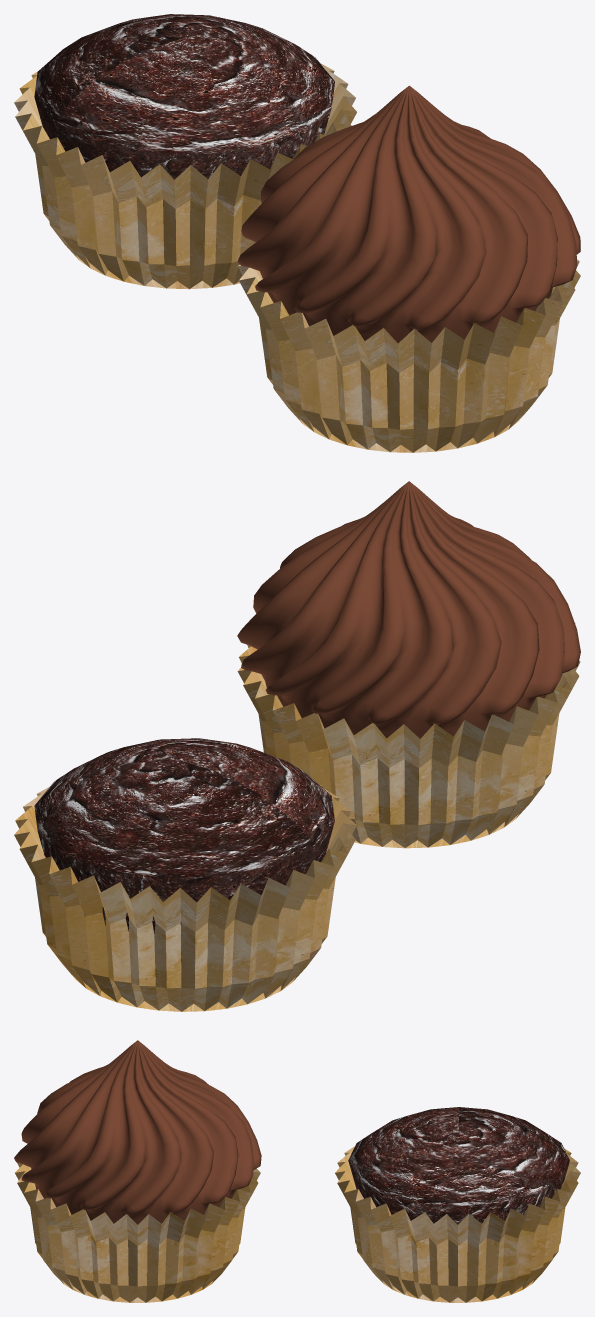
Rendered from cupcakes.gltf.
3 renders of one model, top to bottom at view 1: azimuth 30°, elevation 25°; view 2: azimuth 150°, elevation 25°; view 3: azimuth 270°, elevation 25°, orthographic. The views are drawn at different scales.
Parts seen in each view (by area): view 1: Cone, Sphere, Cylinder, Cylinder.001; view 2: Cone, Sphere, Cylinder.001, Cylinder; view 3: Cone, Sphere, Cylinder.001, Cylinder.
Boxes of the visible parts, <box> form: Cone: <box>238,85,580,343</box>; Sphere: <box>34,14,334,179</box>; Cylinder: <box>237,259,580,452</box>; Cylinder.001: <box>14,63,356,289</box>; Cone: <box>237,481,580,738</box>; Sphere: <box>34,738,334,933</box>; Cylinder.001: <box>14,785,356,1011</box>; Cylinder: <box>237,644,580,848</box>; Cone: <box>14,1040,261,1224</box>; Sphere: <box>348,1107,569,1224</box>; Cylinder.001: <box>335,1144,580,1302</box>; Cylinder: <box>15,1162,260,1302</box>.
Size of the model in its own units: 2.94 by 2.99 by 6.74.
Materials: 3 (2 with a texture image).
